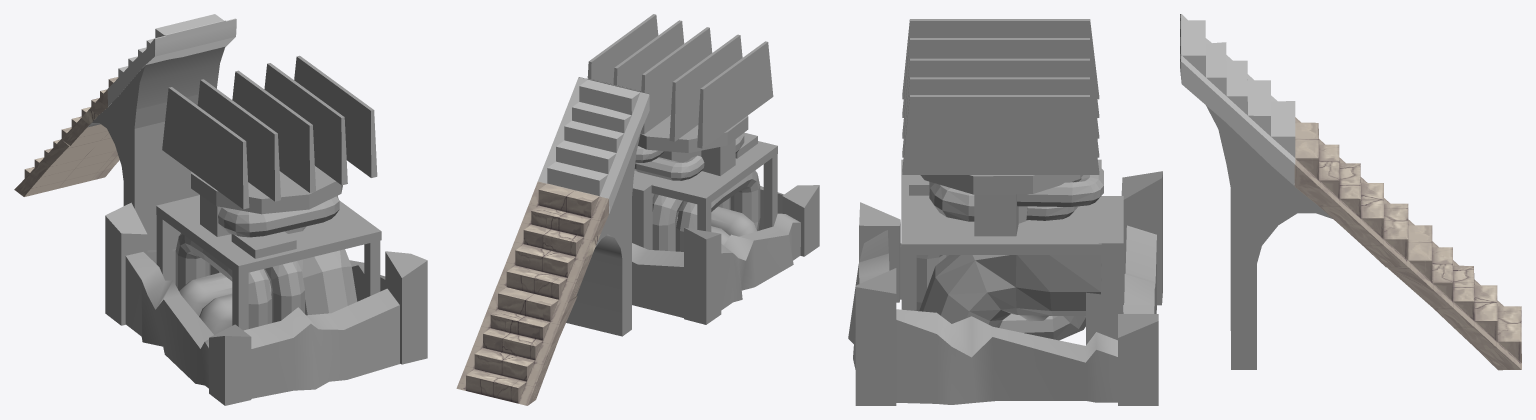
File: windmachine model.fbx
3 views of the same model, side by side, from view 1: azimuth 30°, elevation 25°; view 2: azimuth 150°, elevation 25°; view 3: azimuth 270°, elevation 25° (orthographic). The views are drawn at different scales.
Visible parts, largest first — view 1: group31, polySurface8, pCube1, pCube5, pasted__pCube7, pasted__pCube8, pasted__pCube6, polySurface5, polySurface7, pasted__pCube5, pCylinder3, pasted__pasted__pCylinder1 (+11 smaller); view 2: group31, polySurface7, polySurface5, polySurface6, polySurface8, pCube5, pCube1, pasted__pCube6, pasted__pCube7, group5_pasted__pCylinder1, pasted__pCube8, pasted__pCube5 (+8 smaller); view 3: group31, pasted__pCube5, pasted__pasted__pCylinder1, polySurface8, polySurface7, polySurface5, polySurface6, pCube1, pasted__pCube6, pasted__pCube7, pCube5, pasted__pCube8 (+9 smaller).
Part boxes in pixels (left/top/right/bottom): group31: left=105, top=202, right=427, bottom=405; polySurface8: left=88, top=47, right=224, bottom=250; pCube1: left=156, top=195, right=381, bottom=274; pCube5: left=162, top=87, right=249, bottom=209; pasted__pCube7: left=232, top=70, right=315, bottom=192; pasted__pCube8: left=264, top=63, right=347, bottom=185; pasted__pCube6: left=197, top=79, right=280, bottom=201; polySurface5: left=14, top=127, right=119, bottom=196; polySurface7: left=107, top=14, right=236, bottom=106; pasted__pCube5: left=294, top=55, right=377, bottom=177; pCylinder3: left=191, top=166, right=342, bottom=214; pasted__pasted__pCylinder1: left=297, top=249, right=357, bottom=315; group31: left=632, top=185, right=819, bottom=324; polySurface7: left=538, top=77, right=649, bottom=213; polySurface5: left=456, top=285, right=577, bottom=405; polySurface6: left=497, top=181, right=608, bottom=301; polySurface8: left=566, top=132, right=640, bottom=336; pCube5: left=697, top=41, right=773, bottom=148; pCube1: left=633, top=141, right=777, bottom=206; pasted__pCube6: left=669, top=34, right=742, bottom=141; pasted__pCube7: left=640, top=27, right=712, bottom=134; group5_pasted__pCylinder1: left=676, top=170, right=760, bottom=251; pasted__pCube8: left=613, top=20, right=684, bottom=91; pasted__pCube5: left=587, top=14, right=658, bottom=84; group31: left=848, top=171, right=1162, bottom=405; pasted__pCube5: left=902, top=95, right=1099, bottom=174; pasted__pasted__pCylinder1: left=919, top=255, right=1101, bottom=327; polySurface8: left=1206, top=105, right=1332, bottom=369; polySurface7: left=1180, top=14, right=1295, bottom=185; polySurface5: left=1387, top=219, right=1521, bottom=370; polySurface6: left=1294, top=117, right=1408, bottom=267; pCube1: left=901, top=159, right=1101, bottom=254; pasted__pCube6: left=902, top=38, right=1099, bottom=117; pasted__pCube7: left=902, top=58, right=1099, bottom=138; pCube5: left=902, top=19, right=1099, bottom=99; pasted__pCube8: left=902, top=77, right=1099, bottom=157.
Size of the model in its own units: 11.48 by 14.05 by 27.49.
